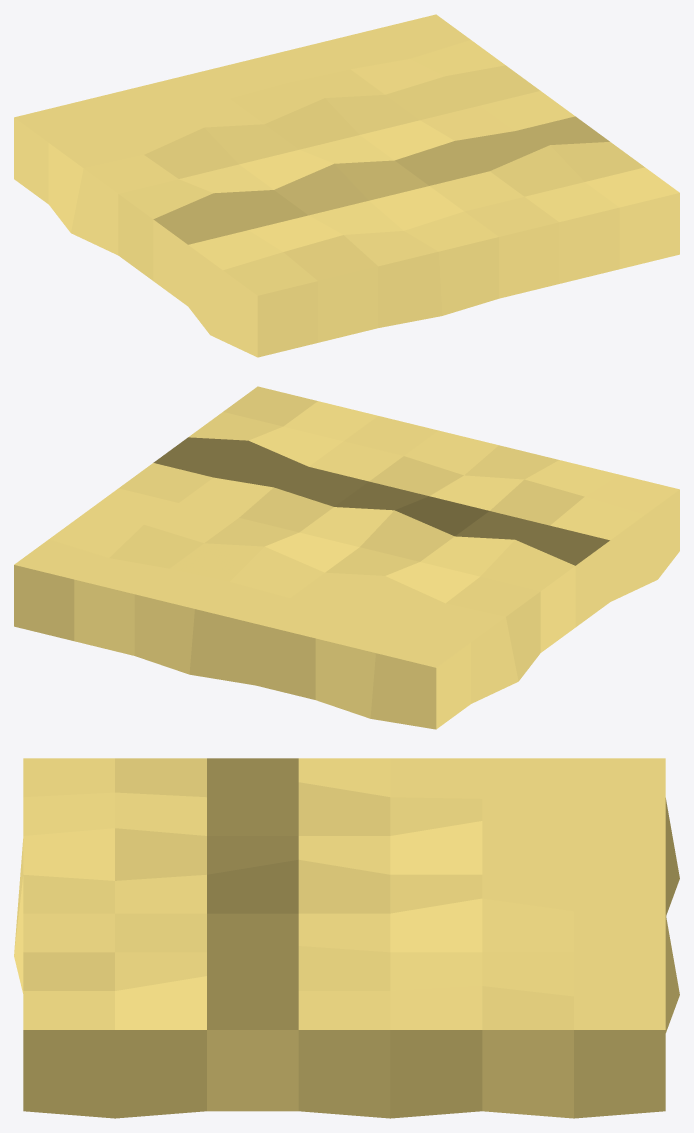
Rendered from sand3.fbx.
3 views of the same model, one above another, from view 1: azimuth 30°, elevation 25°; view 2: azimuth 150°, elevation 25°; view 3: azimuth 270°, elevation 25° (orthographic). The views are drawn at different scales.
Parts seen in each view (by area): view 1: sand_all2; view 2: sand_all2; view 3: sand_all2.
Boxes of the visible parts, left/top/right/bottom form: sand_all2: left=14, top=14, right=679, bottom=357; sand_all2: left=14, top=386, right=679, bottom=729; sand_all2: left=14, top=758, right=679, bottom=1118.
Bounding box in the file's own units: 108 × 16.93 × 106.
